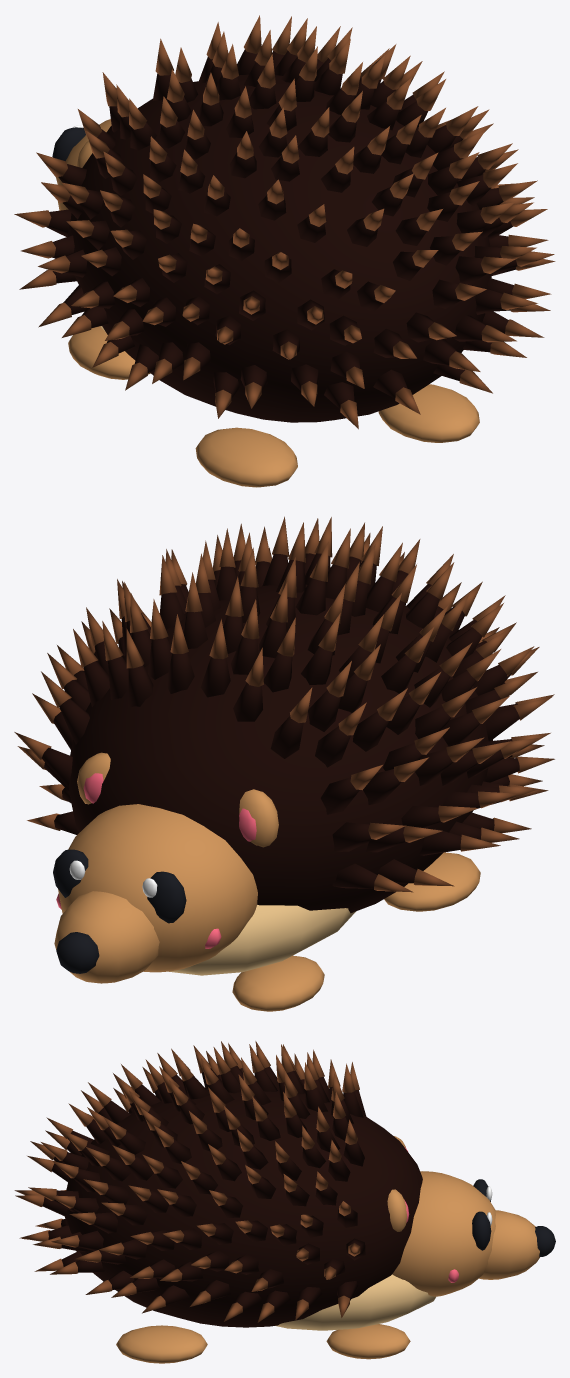
The model's file is Hedgehog.fbx.
3 views of the same model, one above another, from view 1: azimuth 30°, elevation 25°; view 2: azimuth 150°, elevation 25°; view 3: azimuth 270°, elevation 25° (orthographic). The views are drawn at different scales.
Parts seen in each view (by area): view 1: Hedgehog; view 2: Hedgehog; view 3: Hedgehog.
Part boxes in pixels (x1,y1,x2,y2): Hedgehog: (14, 15, 555, 487); Hedgehog: (14, 516, 554, 1011); Hedgehog: (14, 1041, 555, 1363).
Bounding box in the file's own units: 492 × 380 × 708.
